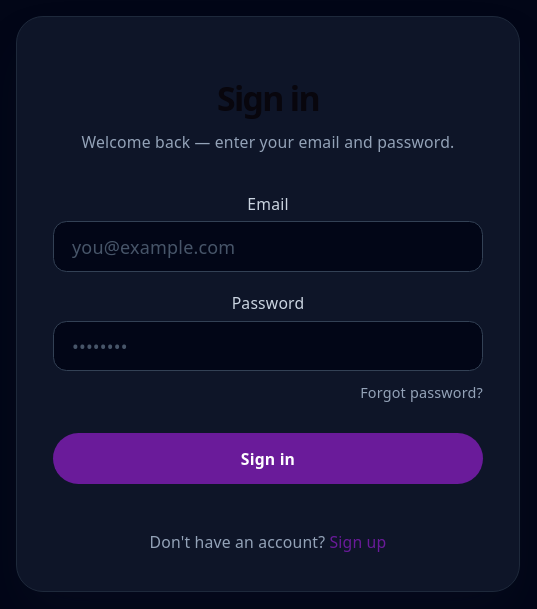
Test: LoginPage — Forgot Password Flow › transitions to forgot_password mode when "Forgot password?" is clicked
Click the button "Forgot password?".
click(422, 393)  # box [360,380,483,406]
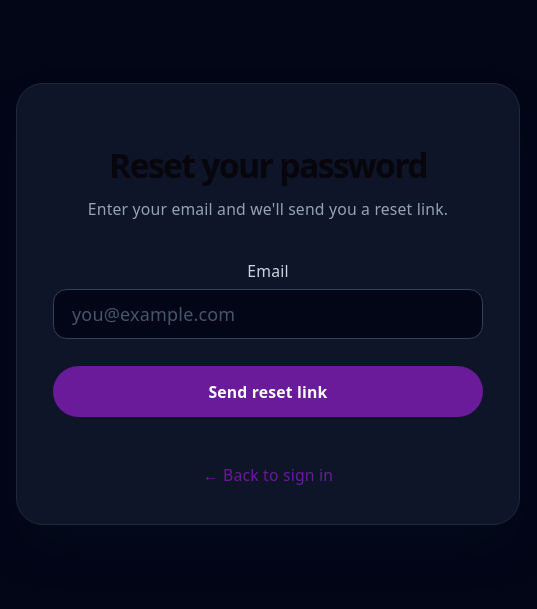
Now the heading "Reset your password" is shown, box [109,142,427,188]
Now the button "Send reset link" is shown, box [53,366,483,417]
